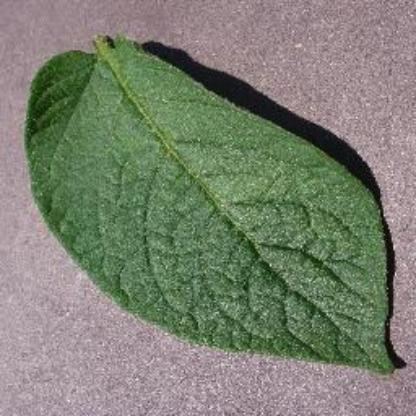Healthy-plant: (24, 37, 400, 379)
